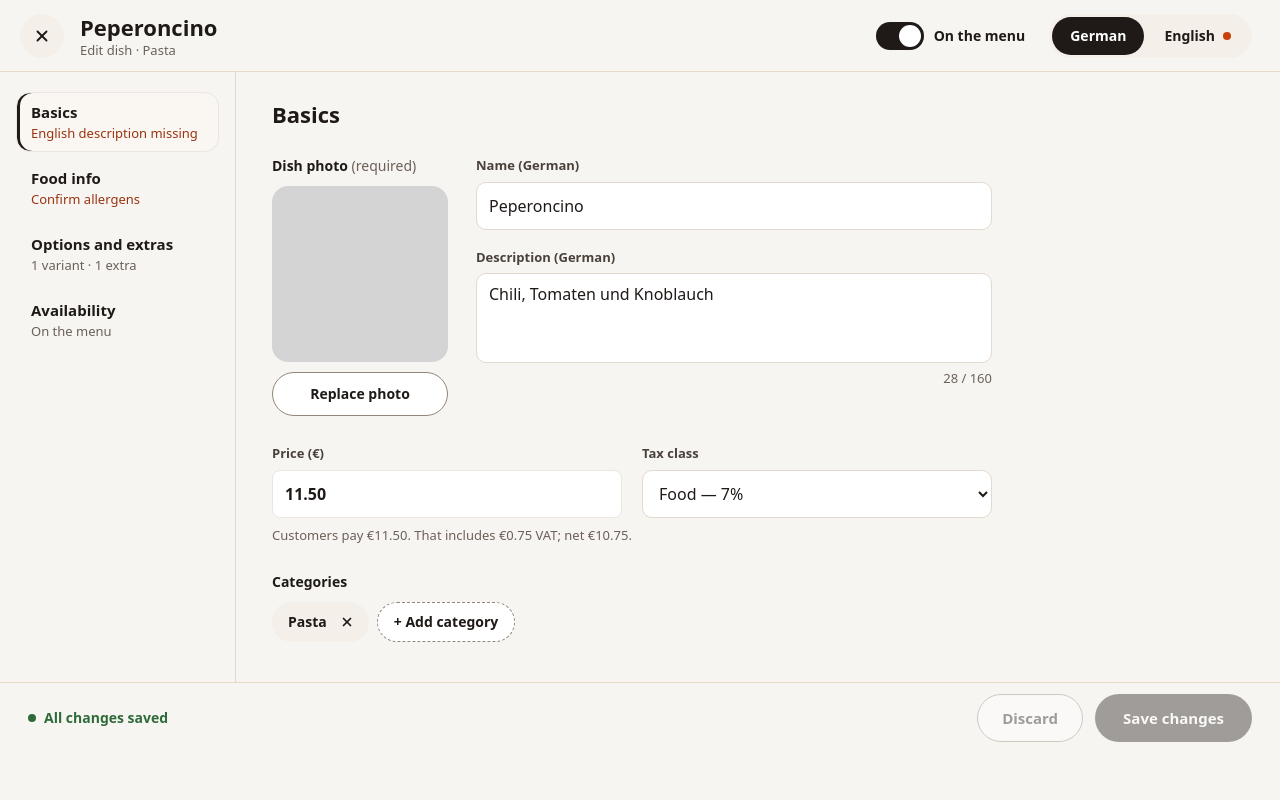
DishForm footer › Save hands the edited state to onSave, then reads as saved
This screenshot has width=1280, height=800.
Replace the text in the field labelled "Name (German)" with "New name" at {"x": 734, "y": 206}, box [476,182,992,230]
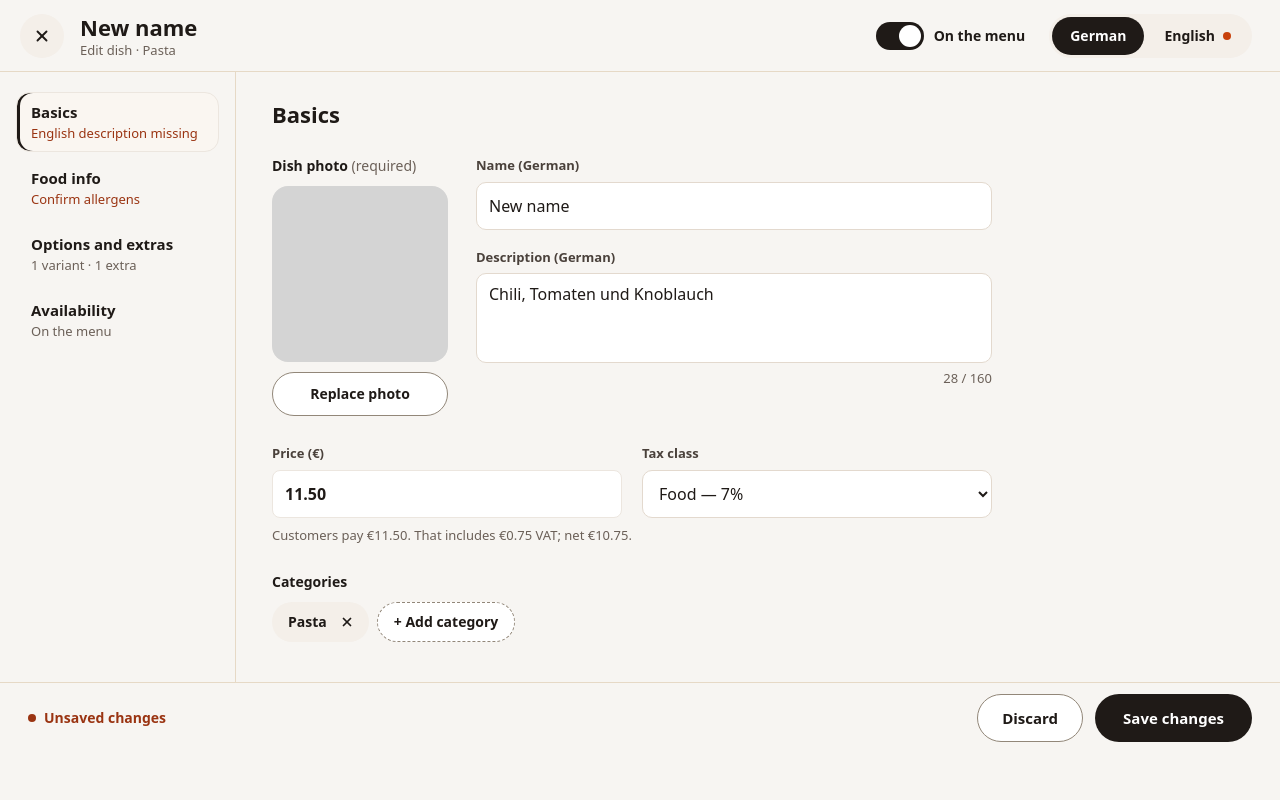
Click the button "Save changes" at {"x": 1174, "y": 718}, box [1095,694,1252,742]
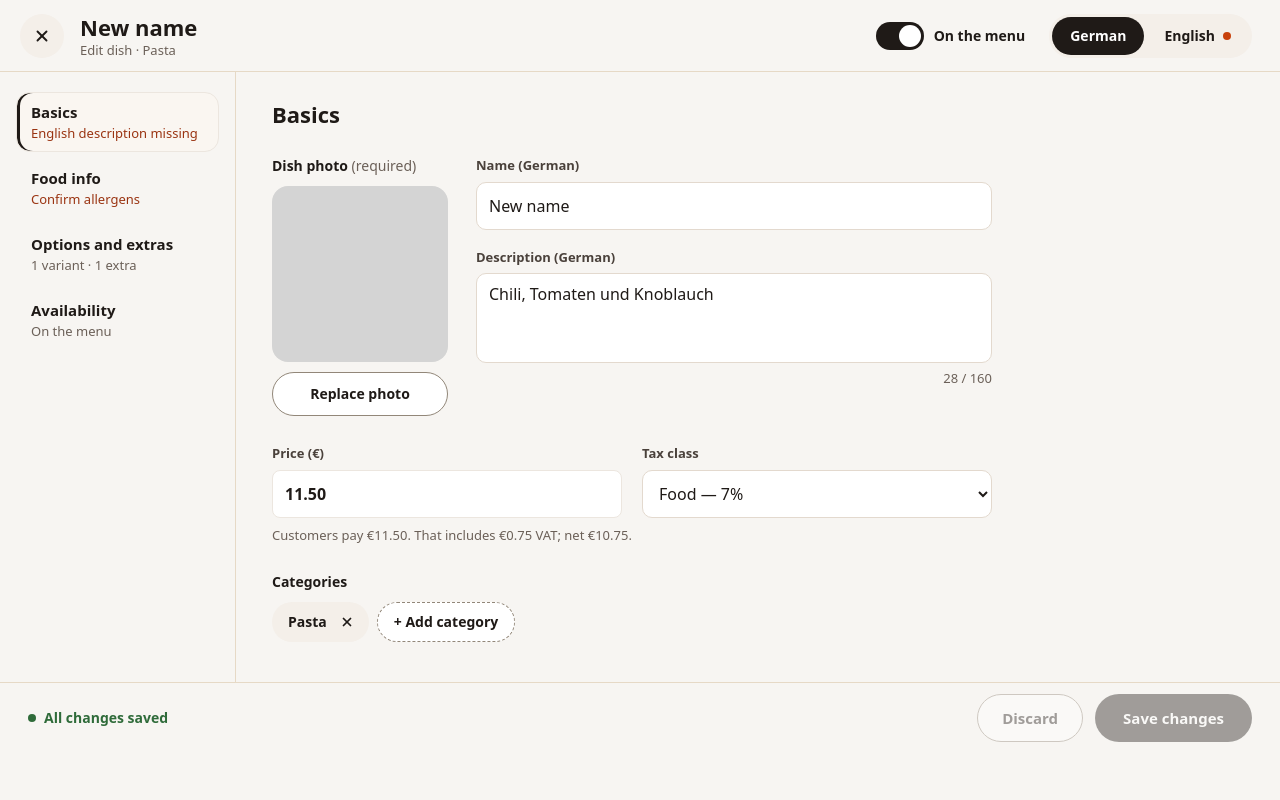
Result: the heading "New name" is shown at [80,12,197,40]
Result: the button "Save changes" is disabled at [1095,694,1252,742]
